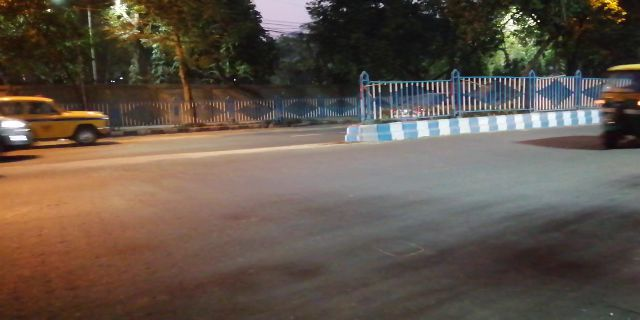Car: (8, 94, 107, 144)
